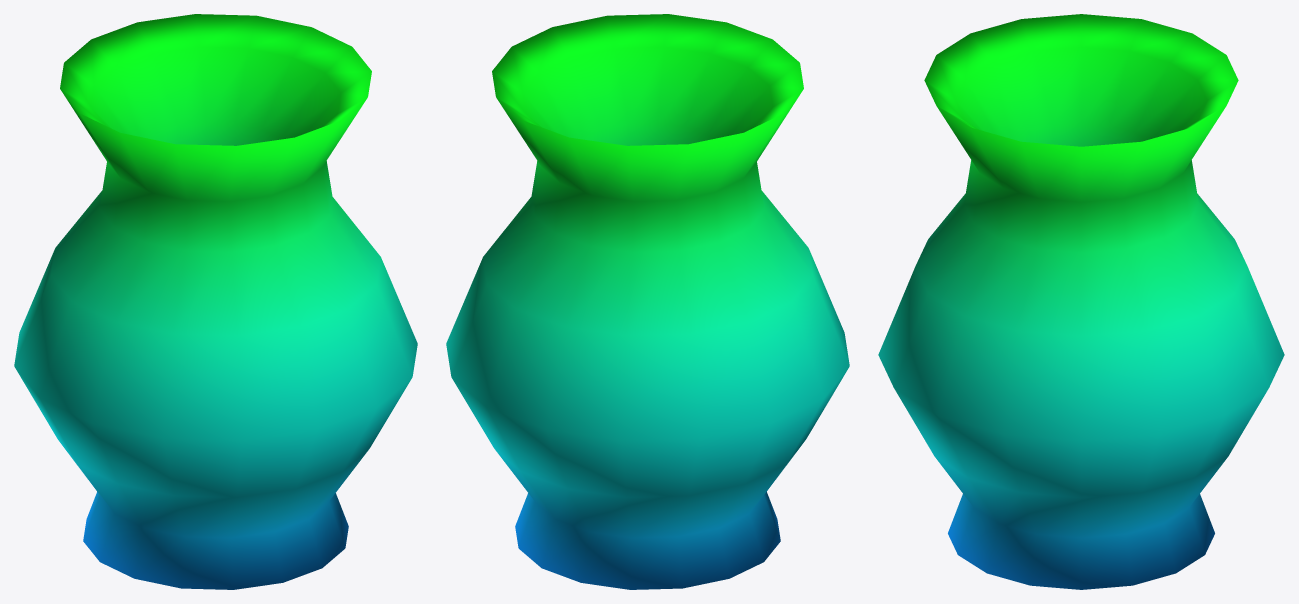
Rendered from vase.glb.
The picture shows the model from 3 angles, left to right: view 1: azimuth 30°, elevation 25°; view 2: azimuth 150°, elevation 25°; view 3: azimuth 270°, elevation 25°; orthographic projection.
Visible parts, largest first — view 1: vase; view 2: vase; view 3: vase.
Boxes of the visible parts, x1=… form: vase: x1=14, y1=14, x2=417, y2=589; vase: x1=446, y1=14, x2=849, y2=589; vase: x1=878, y1=14, x2=1284, y2=589.
Bounding box in the file's own units: 0.545 × 0.6704 × 0.545.
Materials: 1 (1 with a texture image).
